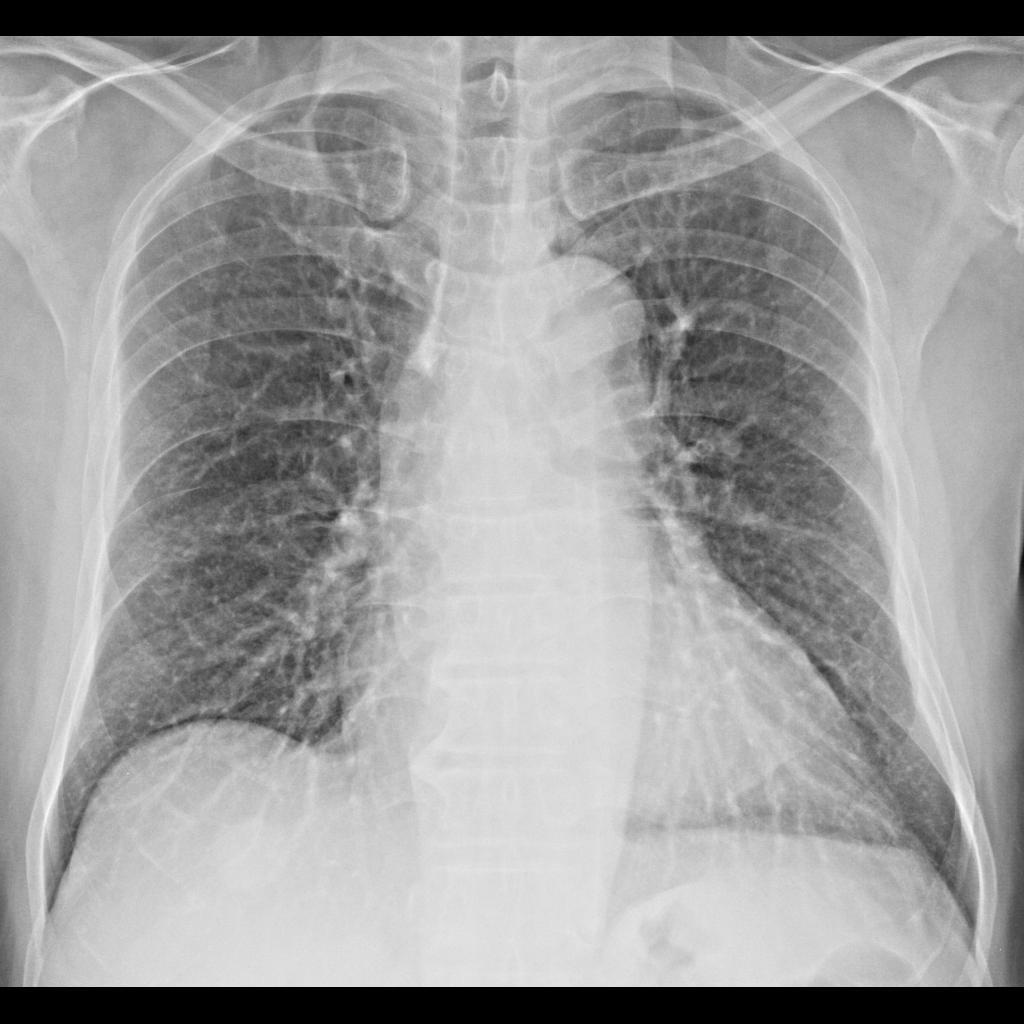Nodule: (215, 815, 288, 887)
